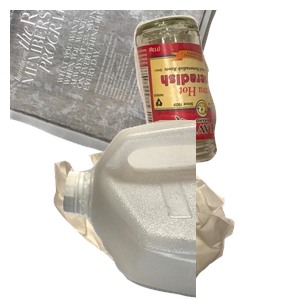glass: (131, 12, 300, 170)
paper: (10, 10, 222, 176)
plastic: (60, 120, 300, 300)
trash: (51, 142, 278, 300)
